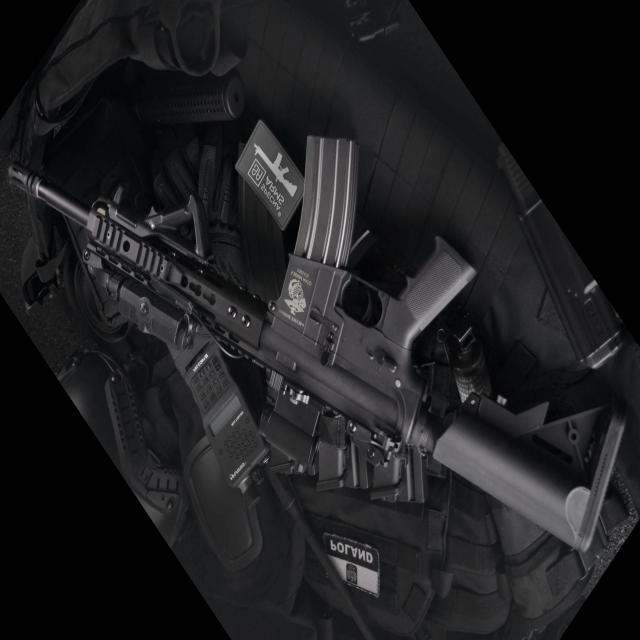weapon: (6, 132, 630, 554)
